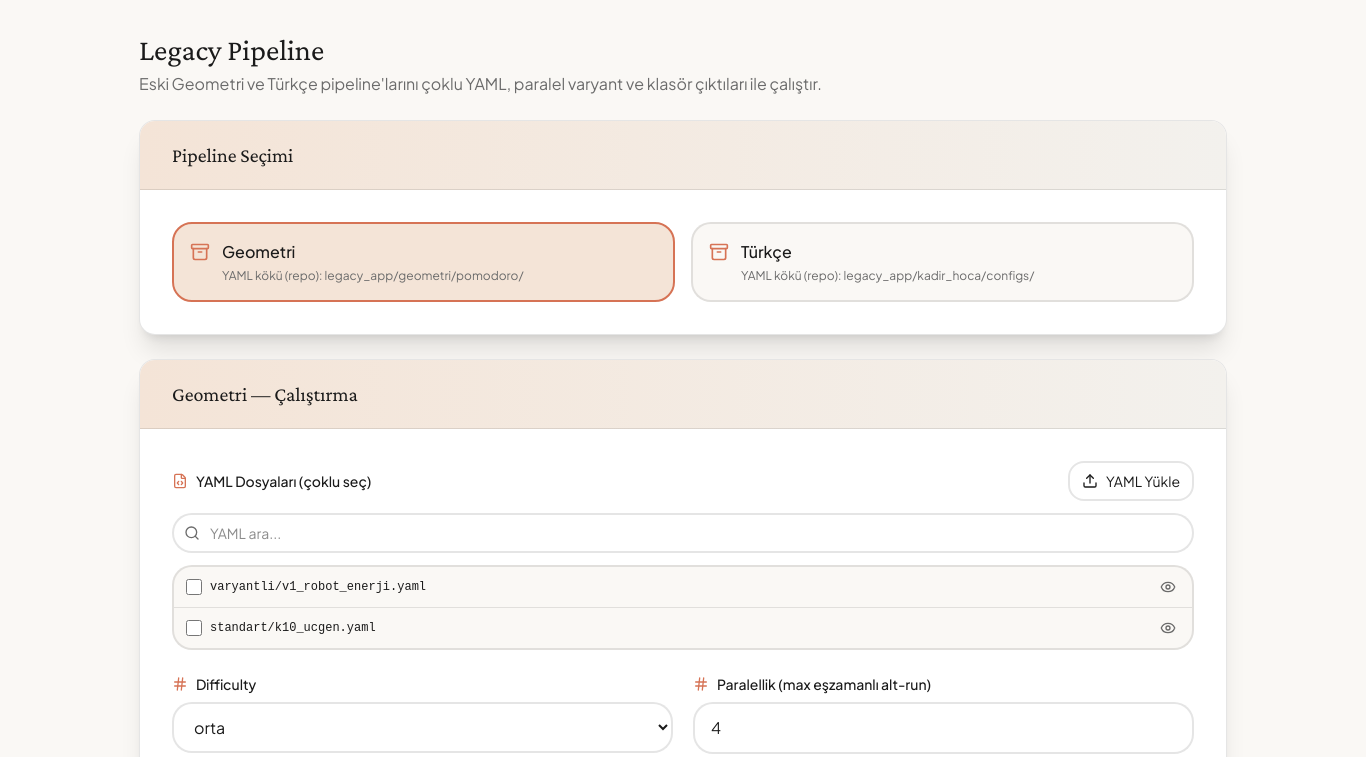
Scenario: LegacyPipelinePage › çoklu YAML seçimi totalRuns toplamını doğru hesaplar
Click the checkbox named "YAML seç: varyantli/v1_robot_enerji.yaml": (194, 587) [186, 579, 202, 595]
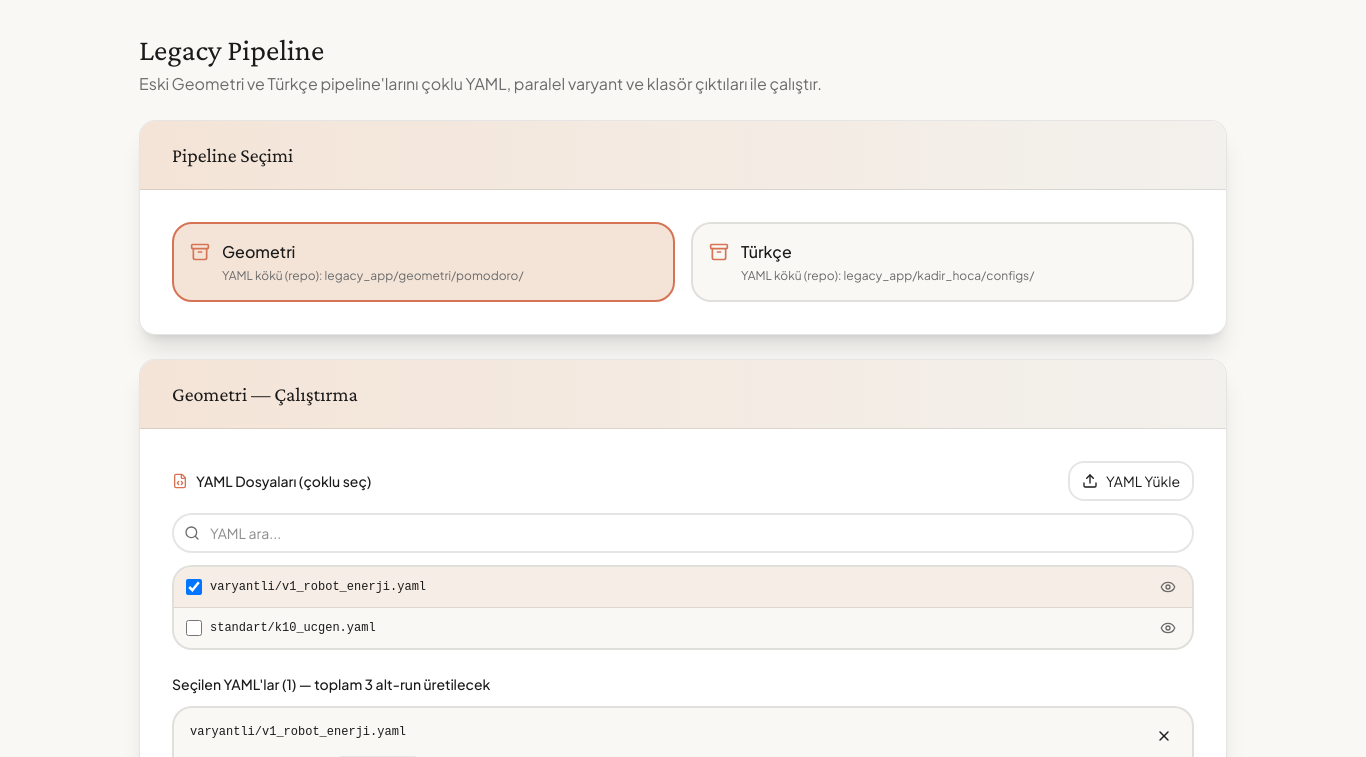
Expected: the text "Seçilen YAML'lar (1) — toplam 3 alt-run üretilecek" is shown, [172, 675, 490, 693]
Click the checkbox named "YAML seç: standart/k10_ucgen.yaml": (194, 628) [186, 620, 202, 636]
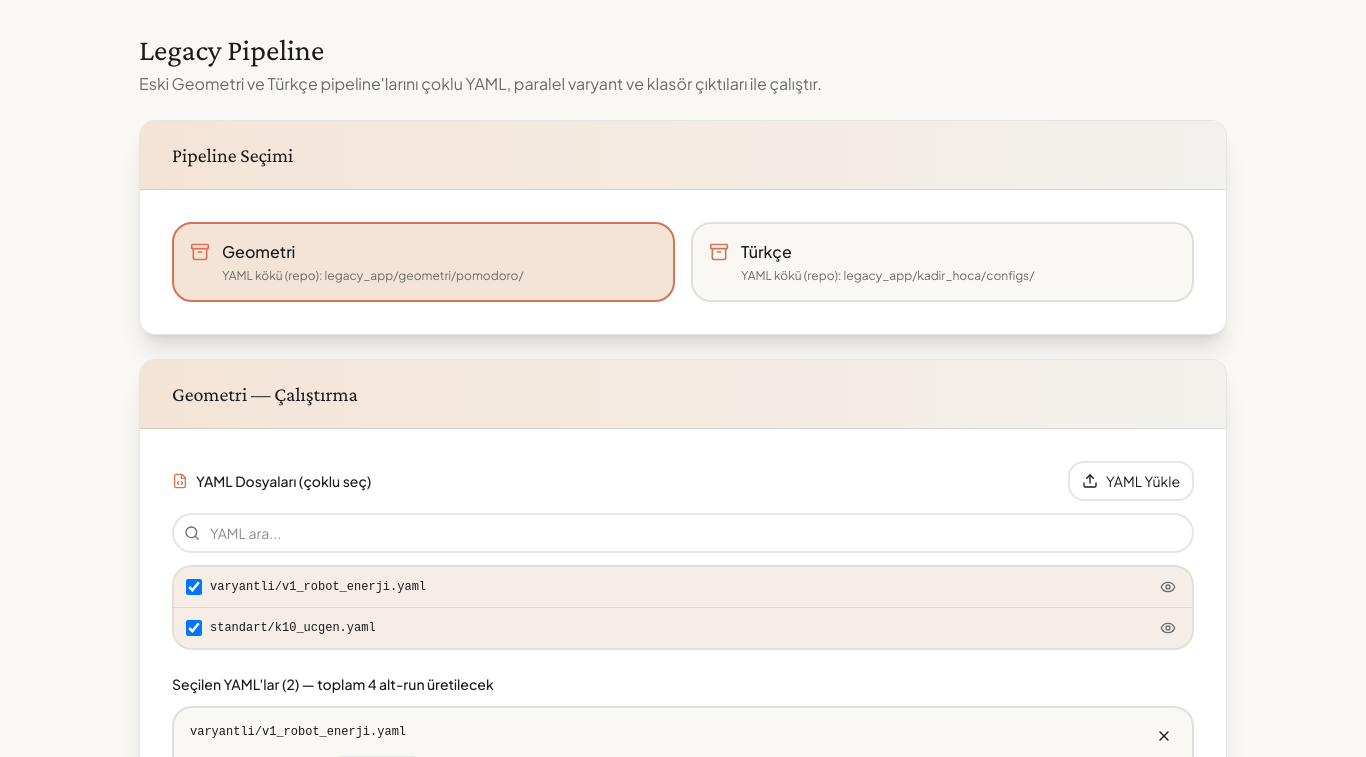
Expected: the text "Seçilen YAML'lar (2) — toplam 4 alt-run üretilecek" is shown, [172, 675, 494, 693]
